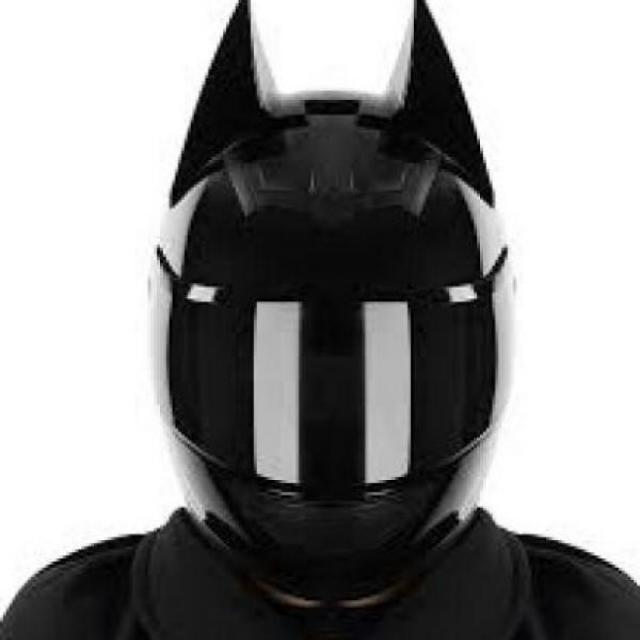Helmet: (161, 89, 522, 586)
